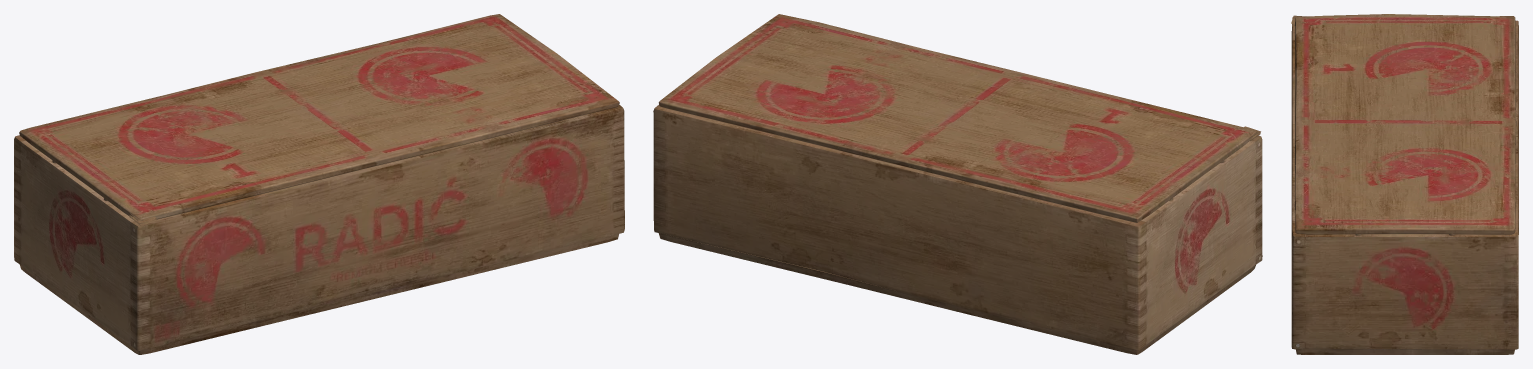
File: CheeseBox_01.glb
The picture shows the model from 3 angles, left to right: view 1: azimuth 30°, elevation 25°; view 2: azimuth 150°, elevation 25°; view 3: azimuth 270°, elevation 25°; orthographic projection. The views are drawn at different scales.
Visible parts, largest first — view 1: CheeseBox_01; view 2: CheeseBox_01; view 3: CheeseBox_01.
Boxes of the visible parts, bbox=[...] form: CheeseBox_01: bbox=[14, 14, 624, 354]; CheeseBox_01: bbox=[653, 14, 1262, 354]; CheeseBox_01: bbox=[1291, 14, 1518, 354].
Bounding box in the file's own units: 0.2404 × 0.066 × 0.1066.
1 material, 1 textured.
